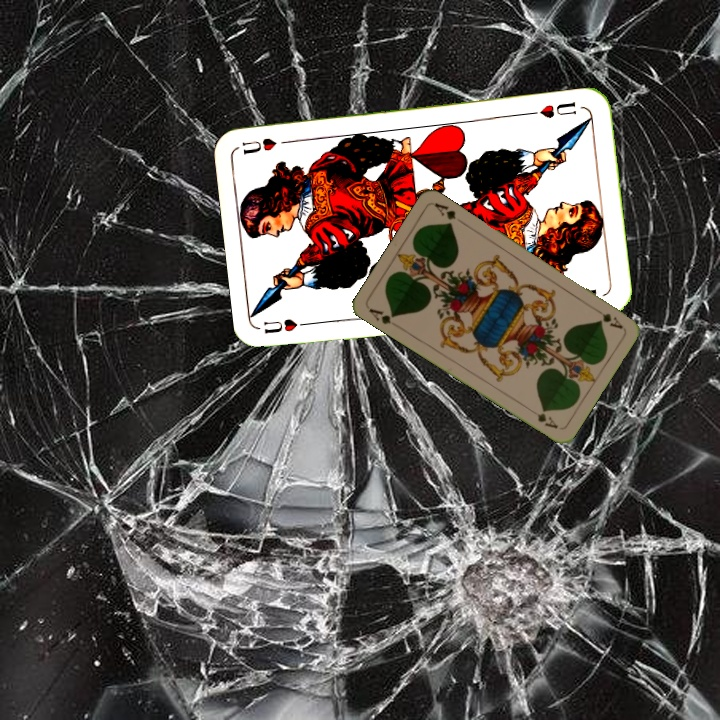GA: (365, 304, 398, 327), (598, 309, 625, 332)
HU: (260, 315, 318, 336), (536, 98, 579, 121)
